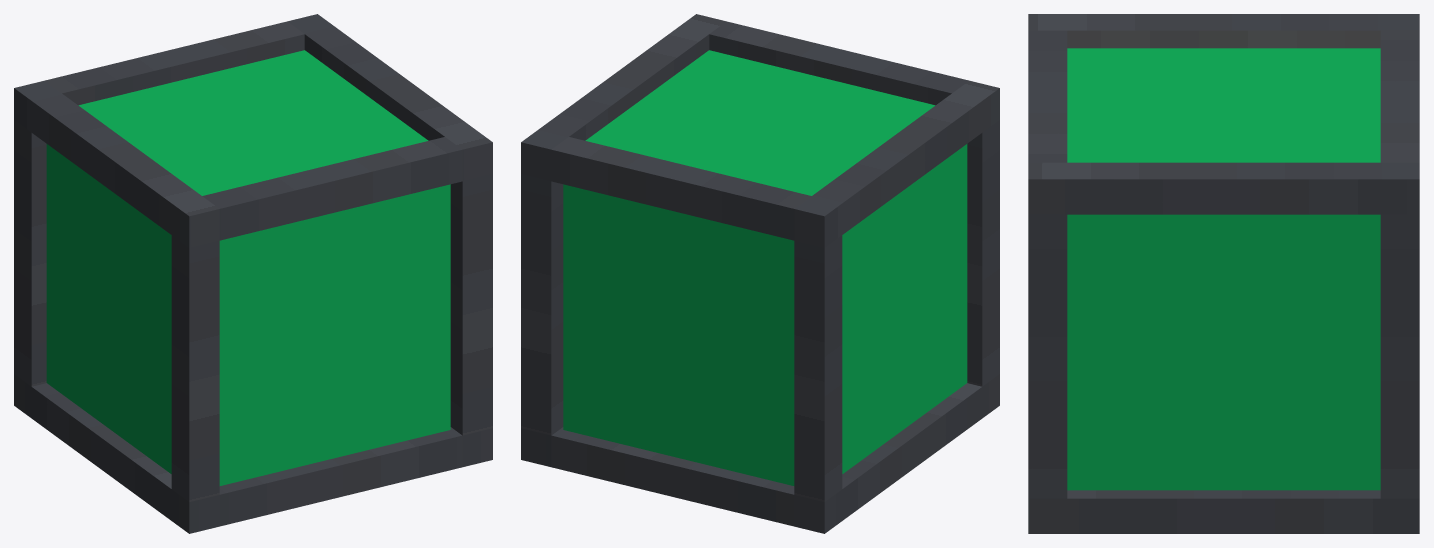
File: powercell.obj
3 renders of one model, left to right at view 1: azimuth 30°, elevation 25°; view 2: azimuth 150°, elevation 25°; view 3: azimuth 270°, elevation 25°, orthographic. The views are drawn at different scales.
Parts seen in each view (by area): view 1: Cube.001_Cube.000; view 2: Cube.001_Cube.000; view 3: Cube.001_Cube.000.
Part boxes in pixels (<box>): Cube.001_Cube.000: <box>14,14,492,533</box>; Cube.001_Cube.000: <box>521,14,999,533</box>; Cube.001_Cube.000: <box>1028,14,1419,533</box>.
Bounding box in the file's own units: 1 × 1 × 1.
